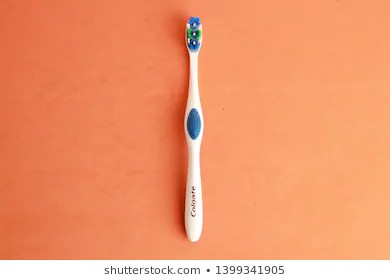toothbrush: (175, 16, 214, 248)
